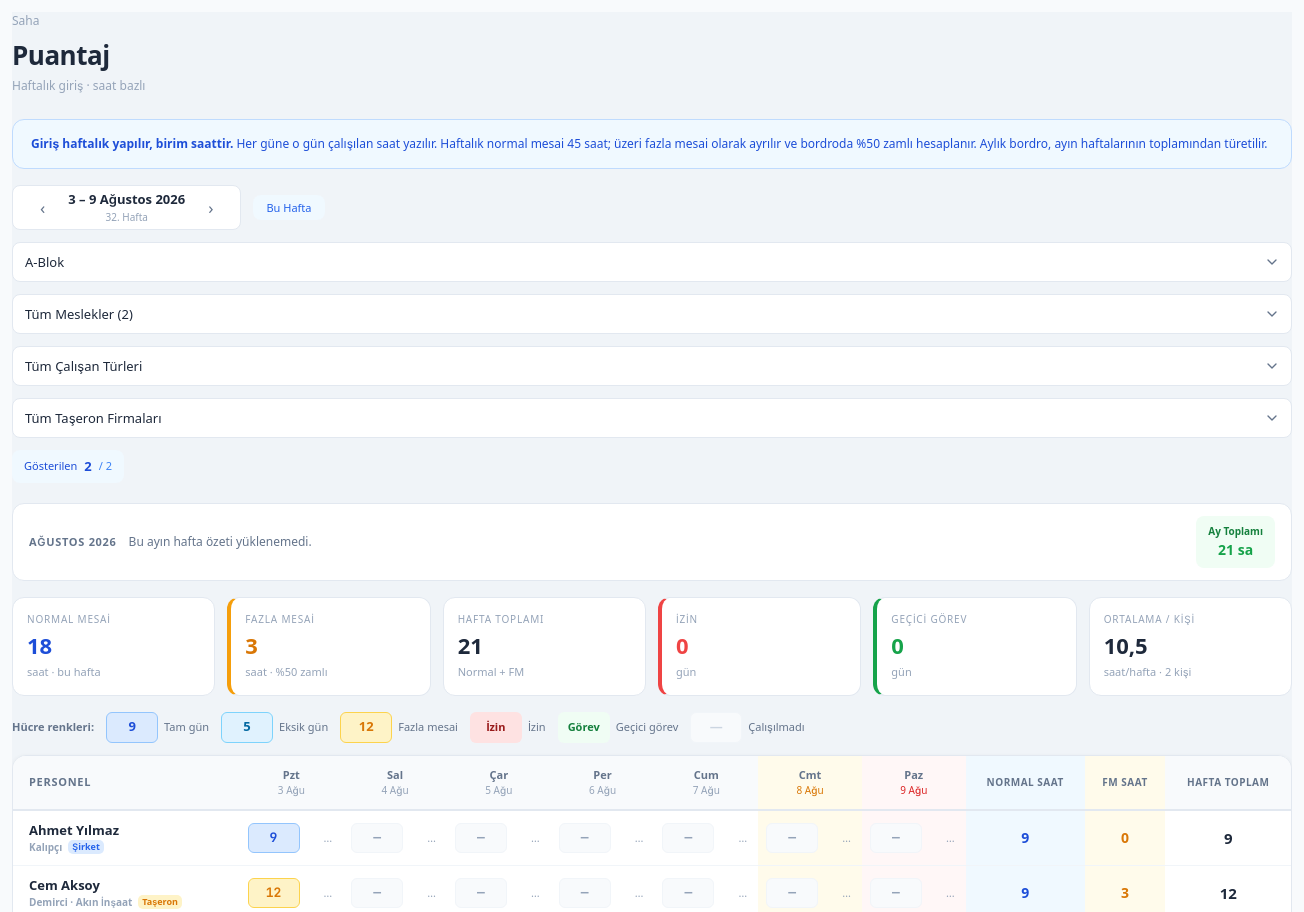
Test case: GeneralTimesheetView · E5 satır süzgeçleri (100-127) › uç karşılığı olmayan süzgeçler SİLİNMEZ — istemci tarafında süzer
The width and height of the screenshot is (1304, 912).
Expected: the text "Gösterilen" is shown, [24, 458, 77, 474]
Select "Kalıpçı (1)" in the dropdown named "Meslek" at (652, 314), box [12, 294, 1292, 334]
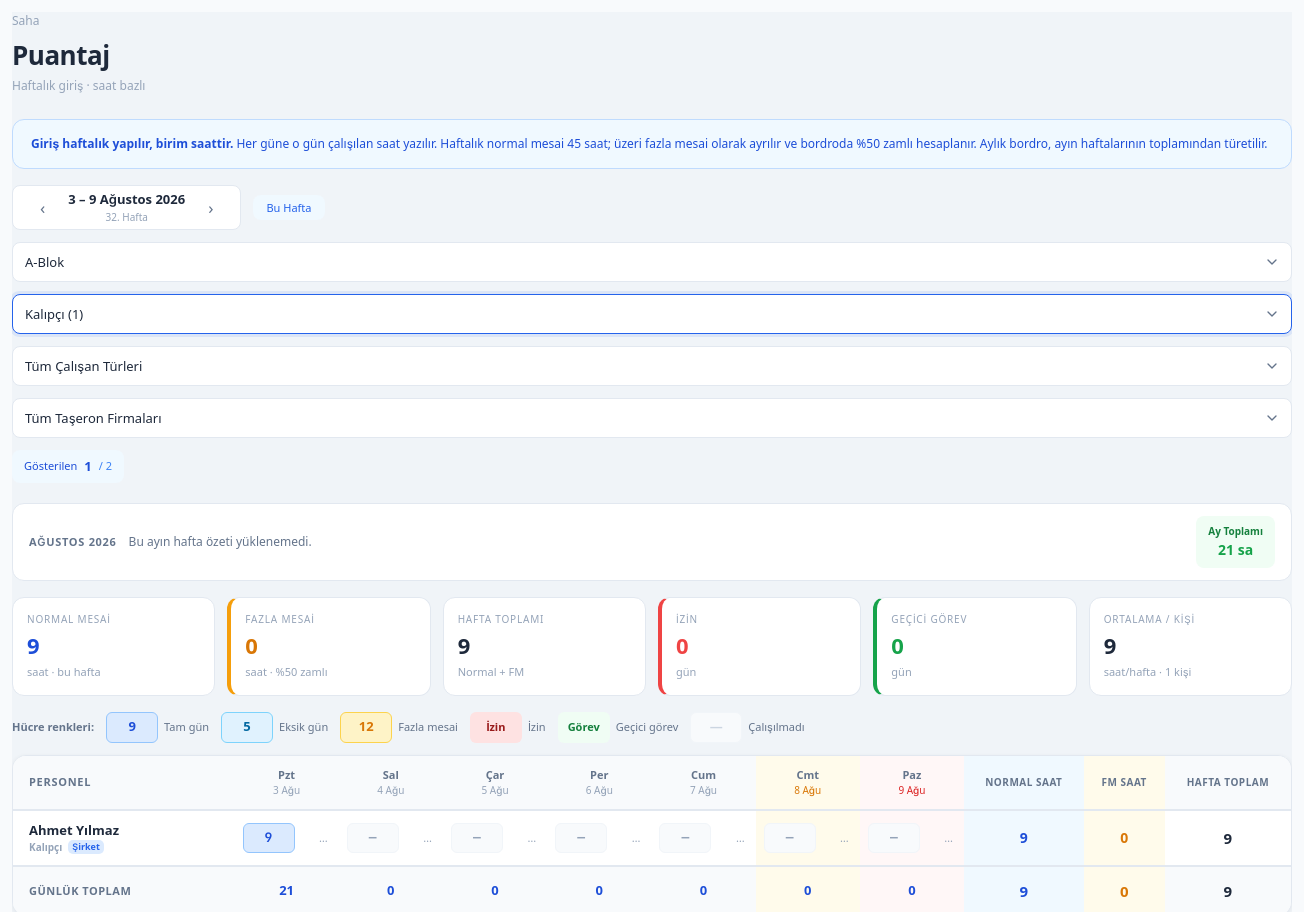
Expected: the text "Ahmet Yılmaz" is shown, [29, 820, 119, 838]
Expected: the text "Cem Aksoy" is gone
Expected: the text "1" is shown, [84, 456, 92, 476]
